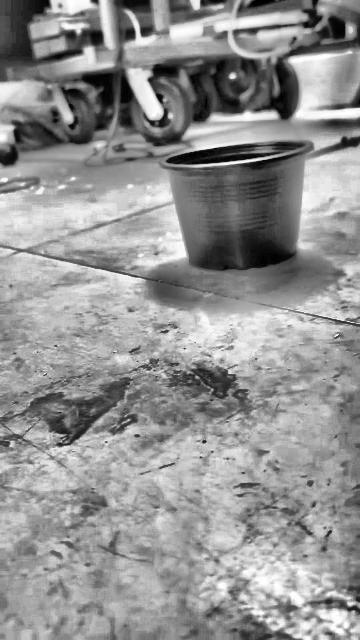pot: (157, 138, 315, 270)
